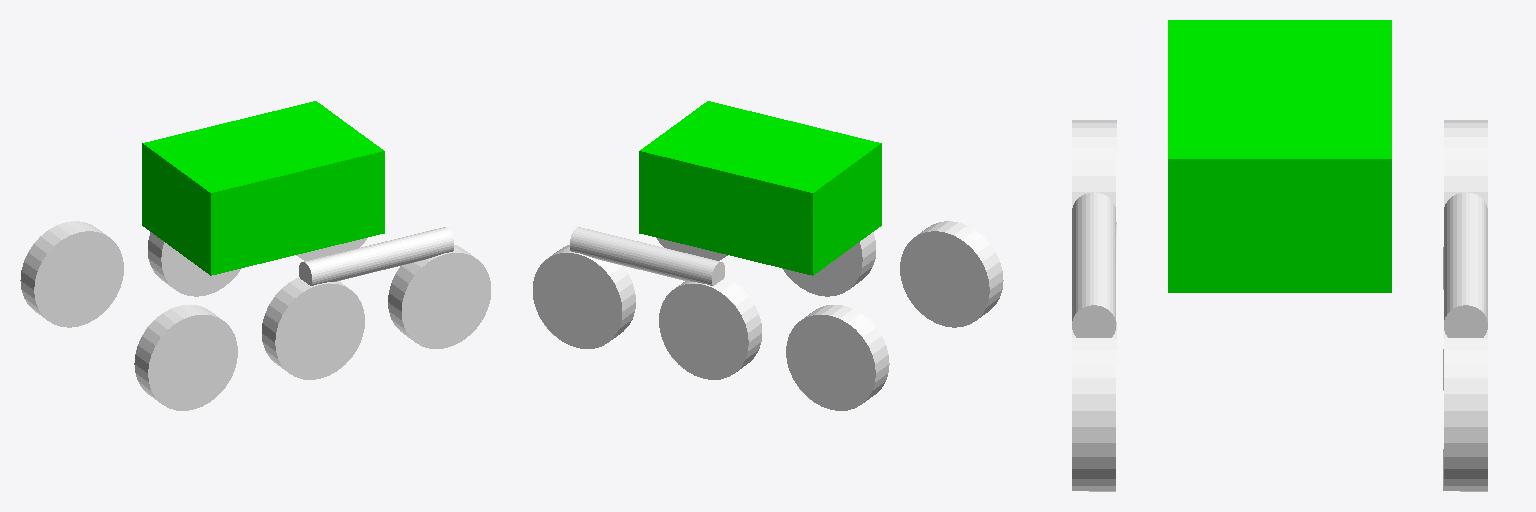
URDF robot description (rover):
<?xml version="1.0"?>
<robot name="rover">
  <!-- colors -->
  <material name="green">
    <color rgba="0.0 1.0 0.0 1.0"/>
  </material>
  <material name="black">
    <color rgba="1 1 1 1.0"/>
  </material>

  <!-- fixxed dimensions -->

  <!-- robot house -->
  <link name="base_link">
    <!-- Visual properties of the link -->
    <visual>
      <geometry>
        <box size="0.22 0.15 0.1" />
      </geometry>
      <origin xyz="0 0 0" rpy="0 0 0"/>
      <material name="green"/>
    </visual>
    <!-- Collision properties of the link -->
  </link>

  <!-- bogie left-->
  <link name="bogie_left">
    <visual>
      <geometry>
        <cylinder radius="0.015" length="0.18"/>
      </geometry>
      <origin xyz="0 0 0" rpy="0 1.57 0"/>
      <material name="black"/>
    </visual>
  </link>
  <link name="bogie_left_front_wheel">
    <visual>
      <geometry>
        <cylinder radius="0.057" length="0.03"/>
      </geometry>
      <origin xyz="0 0 0" rpy="1.57 0 0"/>
      <material name="black"/>
    </visual>
  </link>
  <link name="bogie_left_back_wheel">
    <visual>
      <geometry>
        <cylinder radius="0.057" length="0.03"/>
      </geometry>
      <origin xyz="0 0 0" rpy="1.57 0 0"/>
      <material name="black"/>
    </visual>
  </link>

  <!-- bogie right-->
  <link name="bogie_right">
    <visual>
      <geometry>
        <cylinder radius="0.015" length="0.18"/>
      </geometry>
      <origin xyz="0 0 0" rpy="0 1.57 0"/>
      <material name="black"/>
    </visual>
  </link>
  <link name="bogie_right_front_wheel">
    <visual>
      <geometry>
        <cylinder radius="0.057" length="0.03"/>
      </geometry>
      <origin xyz="0 0 0" rpy="1.57 0 0"/>
      <material name="black"/>
    </visual>
  </link>
  <link name="bogie_right_back_wheel">
    <visual>
      <geometry>
        <cylinder radius="0.057" length="0.03"/>
      </geometry>
      <origin xyz="0 0 0" rpy="1.57 0 0"/>
      <material name="black"/>
    </visual>
  </link>

  <!-- back wheels-->
  <link name="back_left">
    <visual>
      <geometry>
        <cylinder radius="0.057" length="0.03"/>
      </geometry>
      <origin xyz="0 0 0" rpy="1.57 0 0"/>
      <material name="black"/>
    </visual>
  </link>
  <link name="back_right">
    <visual>
      <geometry>
        <cylinder radius="0.057" length="0.03"/>
      </geometry>
      <origin xyz="0 0 0" rpy="1.57 0 0"/>
      <material name="black"/>
    </visual>
  </link>

  <!-- referrence -->
  <link name="referrence">
    <visual>
      <origin xyz="0.15 0.05 -0.115" rpy="0 0 3.14"/>
      <geometry>
        <mesh filename="file://[local-path]/Desktop/rover_simulation/src/rover_description/meshes/rover.stl" scale="0.001 0.001 0.001"/>
      </geometry>
      <material name="example_material">
        <color rgba="0.8 0.8 0.8 0.4"/>
      </material>
    </visual>
  </link>

  <!-- joints ###########################################################################################3-->
     <!-- needed to visualise referrence -->
  <joint name="referrence" type="fixed">
    <parent link="base_link"/>
    <child link="referrence"/>
    <origin xyz="0 0 0" rpy="0 0 0"/>
  </joint>
  <!-- bogie_left -->
  <joint name="bogie_left" type="continuous">
    <parent link="base_link"/>
    <child link="bogie_left"/>
    <origin xyz="0.071 0.125 -0.05" rpy="0 0 0"/>
    <axis xyz="0.0 1.0 0.0"/>
  </joint>
  <joint name="bogie_left_front_wheel" type="continuous">
    <parent link="bogie_left"/>
    <child link="bogie_left_front_wheel"/>
    <origin xyz="0.08 0 -0.065" rpy="0 0 0"/>
    <axis xyz="0.0 1.0 0.0"/>
  </joint>
  <joint name="bogie_left_back_wheel" type="continuous">
    <parent link="bogie_left"/>
    <child link="bogie_left_back_wheel"/>
    <origin xyz="-0.08 0 -0.065" rpy="0 0 0"/>
    <axis xyz="0.0 1.0 0.0"/>
  </joint>
  <!-- bogie_right -->
  <joint name="bogie_right" type="continuous">
    <parent link="base_link"/>
    <child link="bogie_right"/>
    <origin xyz="0.071 -0.125 -0.05" rpy="0 0 0"/>
    <axis xyz="0.0 1.0 0.0"/>
  </joint>
  <joint name="bogie_right_front_wheel" type="continuous">
    <parent link="bogie_right"/>
    <child link="bogie_right_front_wheel"/>
    <origin xyz="0.08 0 -0.065" rpy="0 0 0"/>
    <axis xyz="0.0 1.0 0.0"/>
  </joint>
  <joint name="bogie_right_back_wheel" type="continuous">
    <parent link="bogie_right"/>
    <child link="bogie_right_back_wheel"/>
    <origin xyz="-0.08 0 -0.065" rpy="0 0 0"/>
    <axis xyz="0.0 1.0 0.0"/>
  </joint>

  <!-- back wheels -->
  <joint name="back_left" type="continuous">
    <parent link="base_link"/>
    <child link="back_left"/>
    <origin xyz="-0.17 0.125 -0.115" rpy="0 0 0"/>
    <axis xyz="0.0 1.0 0.0"/>
  </joint>
  <joint name="back_right" type="continuous">
    <parent link="base_link"/>
    <child link="back_right"/>
    <origin xyz="-0.17 -0.125 -0.115" rpy="0 0 0"/>
    <axis xyz="0.0 1.0 0.0"/>
  </joint>

  <!-- Optionally, define joints if this link is connected to others -->
</robot>

--- Facts derived from the render (not from the file) ---
The picture shows the robot from 3 angles, left to right: view 1: azimuth 30°, elevation 25°; view 2: azimuth 150°, elevation 25°; view 3: azimuth 270°, elevation 25°; orthographic projection.
Robot: rover — 10 links, 9 joints (8 continuous, 1 fixed); root link base_link; default pose: all joints at 0.
Links seen in each view (by area): view 1: base_link, back_right, back_left, bogie_right_back_wheel, bogie_right_front_wheel, bogie_right, bogie_left_back_wheel, bogie_left_front_wheel; view 2: base_link, back_left, back_right, bogie_left_back_wheel, bogie_left_front_wheel, bogie_left, bogie_right_back_wheel, bogie_right_front_wheel; view 3: base_link, bogie_left_front_wheel, bogie_right_front_wheel, bogie_left, bogie_right, back_left, back_right.
Link boxes in pixels (bbox=[...]): base_link: bbox=[142, 101, 384, 275]; back_right: bbox=[134, 305, 237, 410]; back_left: bbox=[20, 221, 123, 327]; bogie_right_back_wheel: bbox=[262, 277, 364, 379]; bogie_right_front_wheel: bbox=[388, 245, 490, 348]; bogie_right: bbox=[299, 227, 453, 285]; bogie_left_back_wheel: bbox=[148, 232, 241, 296]; bogie_left_front_wheel: bbox=[296, 238, 366, 260]; base_link: bbox=[639, 101, 881, 275]; back_left: bbox=[786, 305, 889, 410]; back_right: bbox=[900, 221, 1003, 327]; bogie_left_back_wheel: bbox=[659, 277, 761, 379]; bogie_left_front_wheel: bbox=[533, 245, 635, 348]; bogie_left: bbox=[570, 227, 724, 285]; bogie_right_back_wheel: bbox=[782, 232, 875, 296]; bogie_right_front_wheel: bbox=[657, 238, 727, 260]; base_link: bbox=[1168, 20, 1391, 292]; bogie_left_front_wheel: bbox=[1443, 330, 1487, 491]; bogie_right_front_wheel: bbox=[1072, 322, 1116, 491]; bogie_left: bbox=[1444, 192, 1487, 337]; bogie_right: bbox=[1072, 192, 1115, 337]; back_left: bbox=[1443, 120, 1487, 289]; back_right: bbox=[1072, 120, 1116, 207].
Bounding box of the posed robot: 0.435 × 0.2801 × 0.222 m (x, y, z).
Geometry: only primitive shapes (box / cylinder / sphere) drawn; not drawn: 1 mesh visual (reference in a form the renderer does not follow).